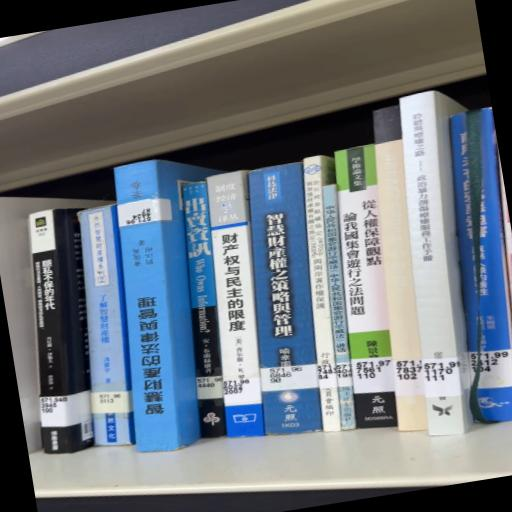reverse: (114, 159, 218, 451)
